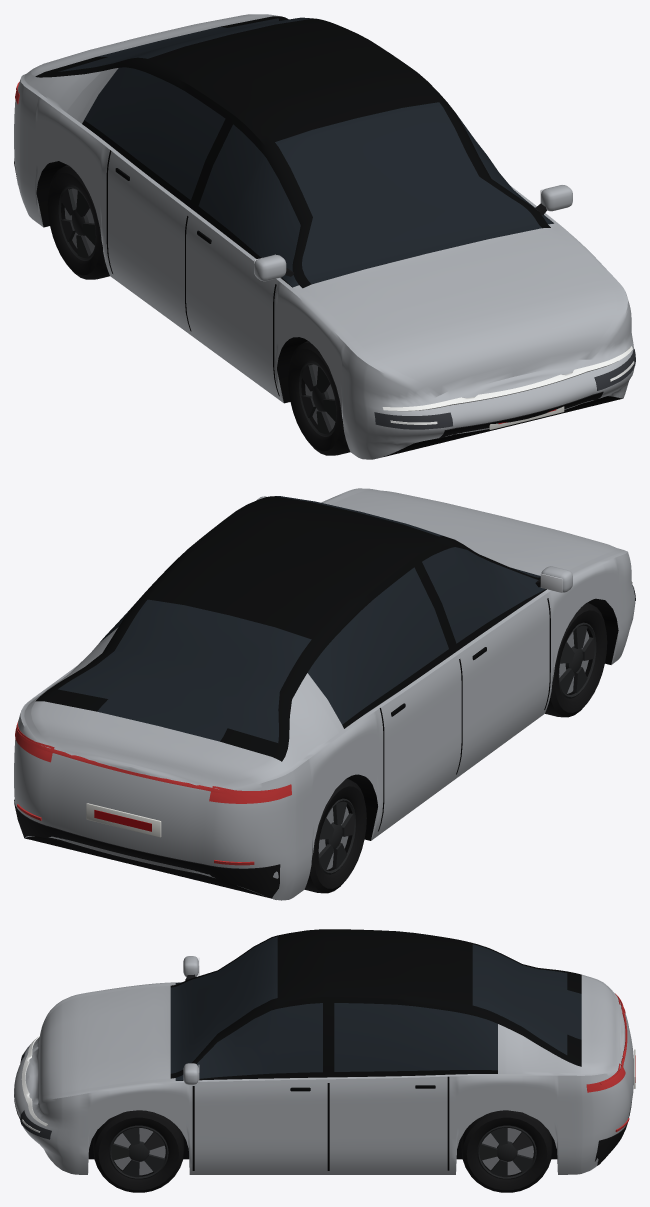
The picture shows the model from 3 angles, top to bottom: view 1: azimuth 30°, elevation 25°; view 2: azimuth 150°, elevation 25°; view 3: azimuth 270°, elevation 25°; orthographic projection. The views are drawn at different scales.
Visible parts, largest first — view 1: body, wheel-front-right, wheel-back-right; view 2: body, wheel-front-right, wheel-back-right; view 3: body, wheel-front-left, wheel-back-left.
Part boxes in pixels (x1,y1,x2,y2): body: (14,14,635,459); wheel-front-right: (288,341,350,455); wheel-back-right: (47,165,109,279); body: (14,488,635,900); wheel-front-right: (545,602,607,717); wheel-back-right: (304,778,366,893); body: (14,929,635,1174); wheel-front-left: (93,1110,184,1192); wheel-back-left: (461,1110,552,1192).
Bounding box in the file's own units: 2.18 × 1.62 × 4.88.
